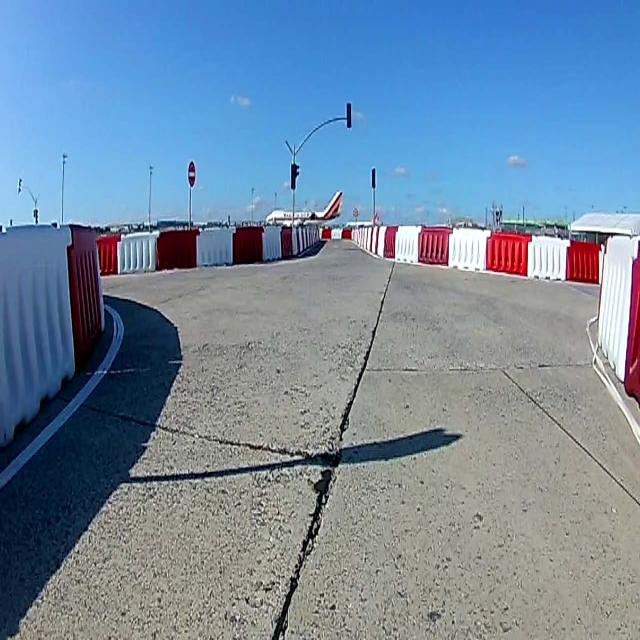girisyok: (186, 161, 198, 187)
